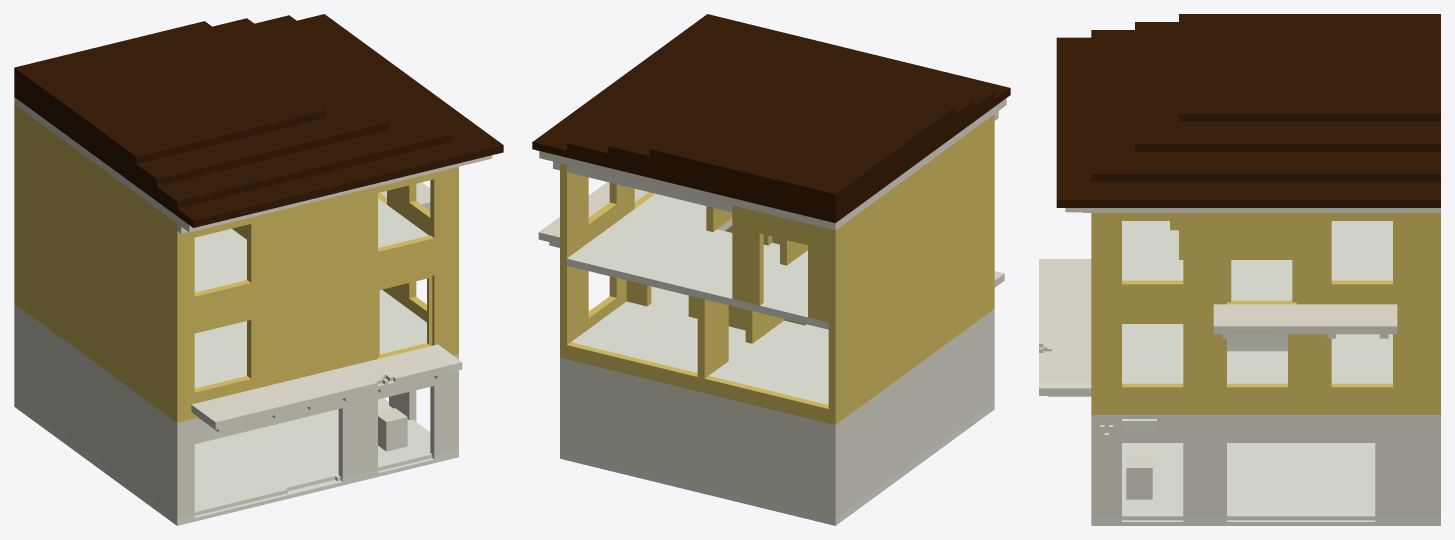
File: immobiliare san marco.obj
The picture shows the model from 3 angles, left to right: view 1: azimuth 30°, elevation 25°; view 2: azimuth 150°, elevation 25°; view 3: azimuth 270°, elevation 25°; orthographic projection. The views are drawn at different scales.
Size of the model in its own units: 9.2 by 9.2 by 9.2.
Materials: 1 (1 with a texture image).
